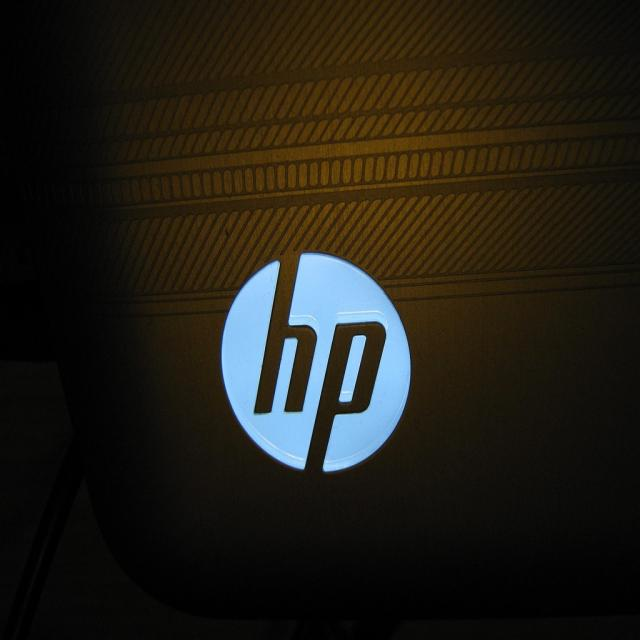HP: (217, 252, 417, 480)
